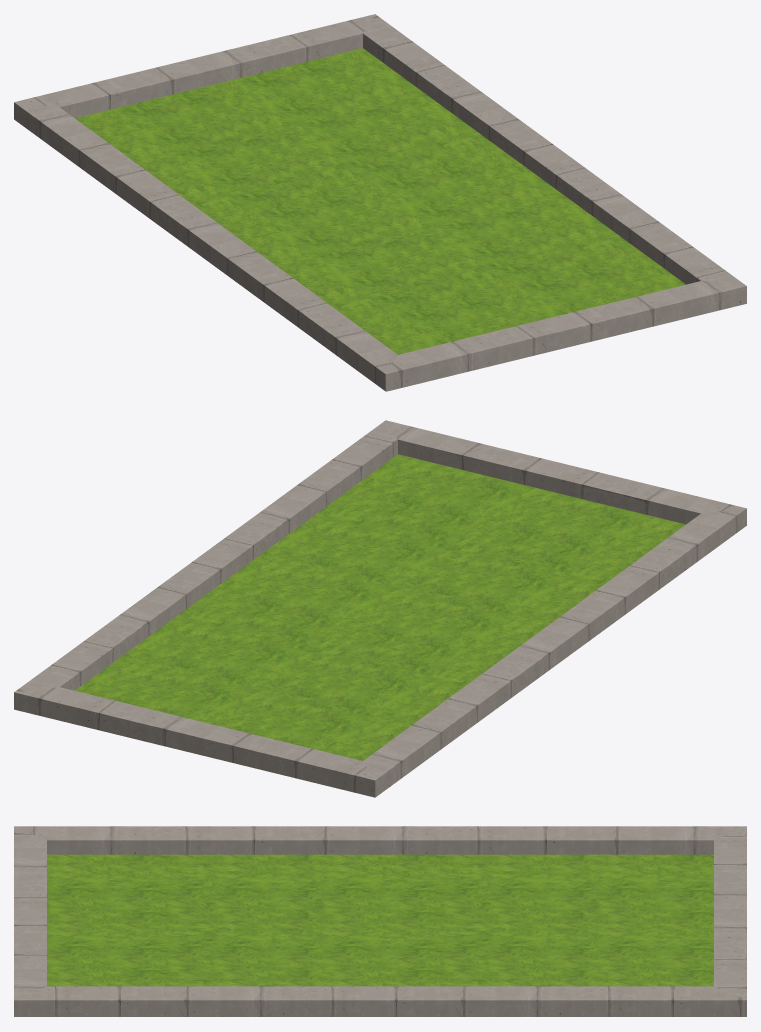
The model's file is GrassTile_Q.fbx.
The picture shows the model from 3 angles, top to bottom: view 1: azimuth 30°, elevation 25°; view 2: azimuth 150°, elevation 25°; view 3: azimuth 270°, elevation 25°; orthographic projection.
Parts seen in each view (by area): view 1: GrassTile_Q; view 2: GrassTile_Q; view 3: GrassTile_Q.
Boxes of the visible parts, x1,y1,x2,y2 form: GrassTile_Q: (14, 14, 746, 391); GrassTile_Q: (14, 420, 746, 797); GrassTile_Q: (14, 826, 746, 1016).
Bounding box in the file's own units: 757 × 35.21 × 1350.
Materials: 2 (2 with a texture image).
